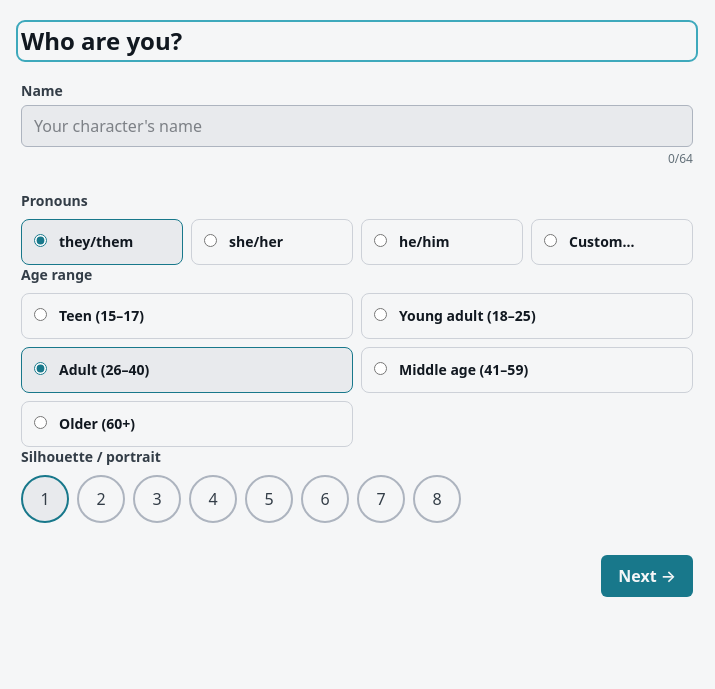
CharacterCreation – occupation step › allows selecting Tourist and advances
Type "Sam" into the field labelled "Name" at (357, 126), box [21, 105, 693, 147]
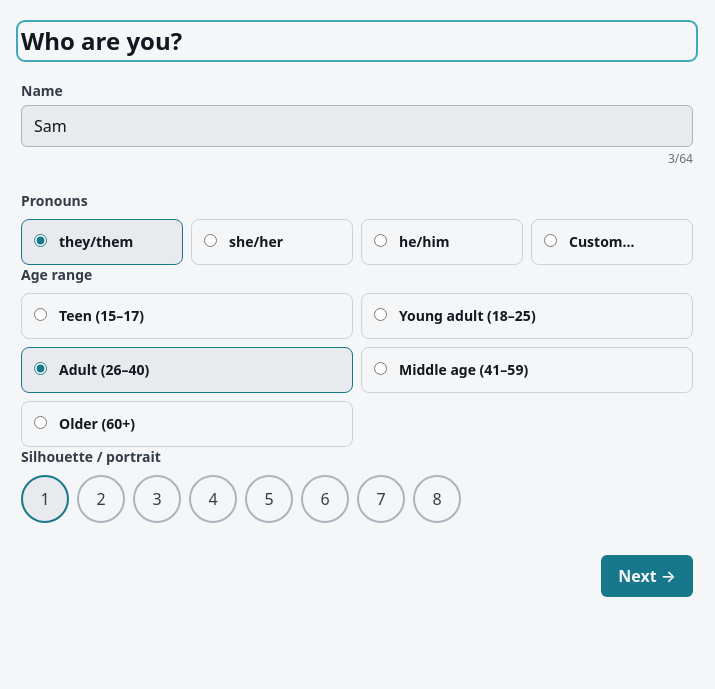
Click the button "Next →" at (647, 576), box [601, 555, 693, 597]
(page scrolled)
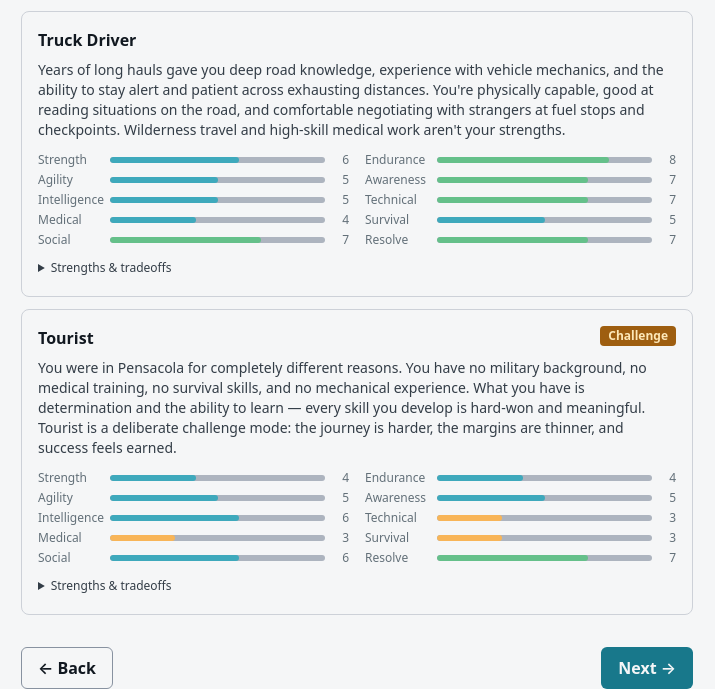
Click the radio button labelled "Tourist" at (357, 462), box [21, 309, 693, 615]
(page scrolled)
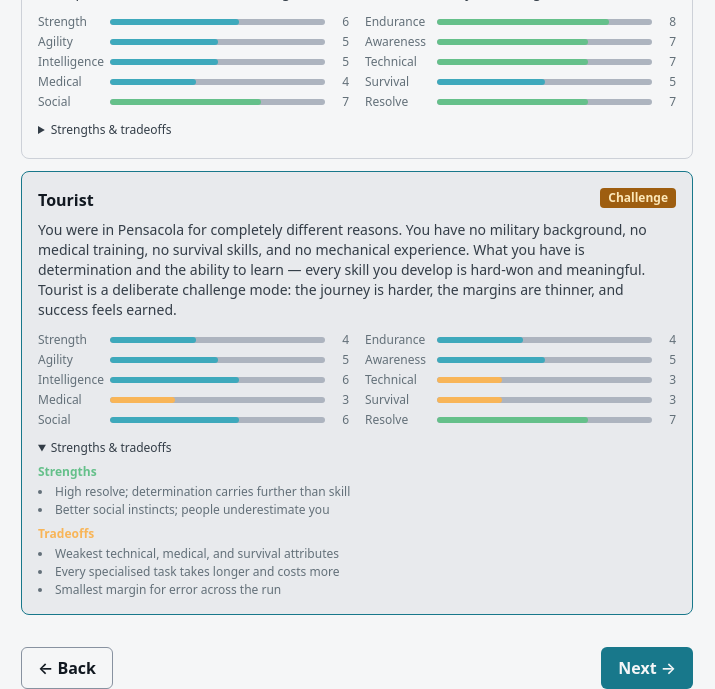
Click the button "Next →" at (647, 668), box [601, 647, 693, 688]
(page scrolled)
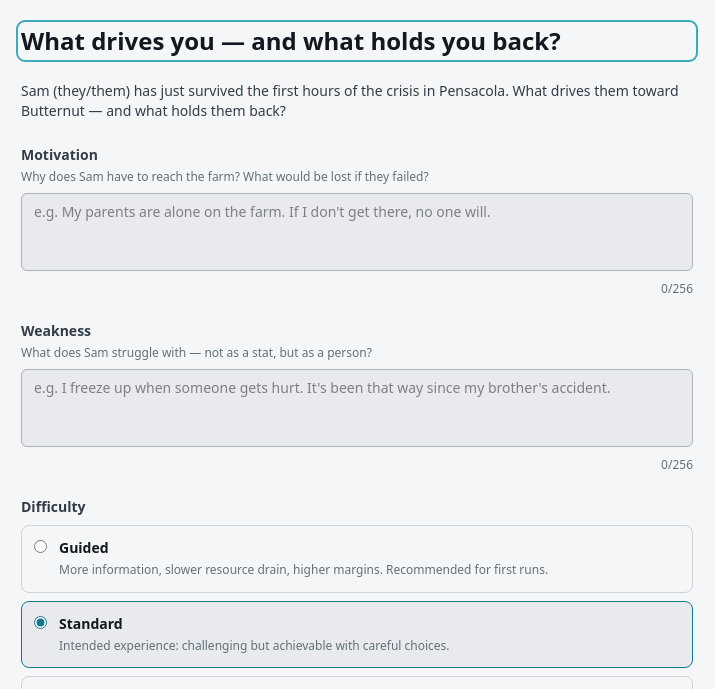
Expected: the heading "What drives you — and what holds you back?" is shown, [21, 24, 561, 57]
